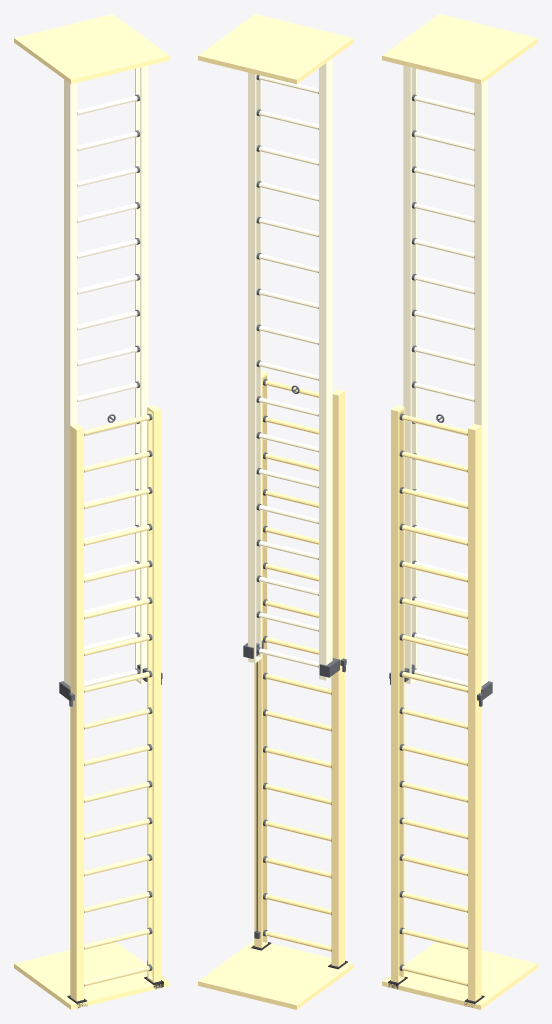
The model's file is ladder_extra_large.glb.
3 views of the same model, side by side, from view 1: azimuth 30°, elevation 25°; view 2: azimuth 150°, elevation 25°; view 3: azimuth 330°, elevation 25° (orthographic).
Visible parts, largest first — view 1: LadderExtraLarge_Top-convcol, LadderExtraLarge_BaseR_Front, LadderExtraLarge_Foot-convcol, LadderExtraLarge_FlyR_Front, LadderExtraLarge_FlyL_Web-convcol, LadderExtraLarge_BaseL_Front, LadderExtraLarge_BaseL_Web-convcol, LadderExtraLarge_FlyL_Front, LadderExtraLarge_FlyR_Back, LadderExtraLarge_BaseR_Back, LadderExtraLarge_BaseL_Back, LadderExtraLarge_FlyR_Web-convcol (+17 smaller); view 2: LadderExtraLarge_Top-convcol, LadderExtraLarge_Foot-convcol, LadderExtraLarge_FlyL_Back, LadderExtraLarge_FlyR_Back, LadderExtraLarge_BaseL_Back, LadderExtraLarge_FlyL_Web-convcol, LadderExtraLarge_BaseL_Web-convcol, LadderExtraLarge_FlyR_Front, LadderExtraLarge_BaseR_Back, LadderExtraLarge_BaseR_Front, LadderExtraLarge_FlyL_Front, LadderExtraLarge_FlyR_Web-convcol (+11 smaller); view 3: LadderExtraLarge_Top-convcol, LadderExtraLarge_BaseR_Front, LadderExtraLarge_BaseL_Front, LadderExtraLarge_Foot-convcol, LadderExtraLarge_FlyL_Front, LadderExtraLarge_FlyR_Web-convcol, LadderExtraLarge_FlyR_Front, LadderExtraLarge_FlyL_Back, LadderExtraLarge_BaseR_Web-convcol, LadderExtraLarge_BaseL_Back, LadderExtraLarge_BaseR_Back, LadderExtraLarge_FlyL_Web-convcol (+17 smaller).
Part boxes in pixels (x1,y1,x2,y2): LadderExtraLarge_Top-convcol: (14,14,169,84); LadderExtraLarge_BaseR_Front: (152,410,160,982); LadderExtraLarge_Foot-convcol: (14,942,169,1009); LadderExtraLarge_FlyR_Front: (140,65,148,683); LadderExtraLarge_FlyL_Web-convcol: (64,80,72,700); LadderExtraLarge_BaseL_Front: (75,429,83,1000); LadderExtraLarge_BaseL_Web-convcol: (70,428,78,1001); LadderExtraLarge_FlyL_Front: (69,83,77,565); LadderExtraLarge_FlyR_Back: (135,67,140,668); LadderExtraLarge_BaseR_Back: (147,407,152,978); LadderExtraLarge_BaseL_Back: (70,426,71,997); LadderExtraLarge_FlyR_Web-convcol: (146,65,148,483); LadderExtraLarge_Top-convcol: (198,14,353,84); LadderExtraLarge_Foot-convcol: (198,940,353,1009); LadderExtraLarge_FlyL_Back: (319,62,327,680); LadderExtraLarge_FlyR_Back: (248,72,256,663); LadderExtraLarge_BaseL_Back: (331,394,339,966); LadderExtraLarge_FlyL_Web-convcol: (324,59,332,680); LadderExtraLarge_BaseL_Web-convcol: (336,393,344,966); LadderExtraLarge_FlyR_Front: (256,74,261,657); LadderExtraLarge_BaseR_Back: (254,377,262,948); LadderExtraLarge_BaseR_Front: (262,374,267,942); LadderExtraLarge_FlyL_Front: (331,58,332,676); LadderExtraLarge_FlyR_Web-convcol: (248,73,249,661); LadderExtraLarge_Top-convcol: (382,14,537,84); LadderExtraLarge_BaseR_Front: (468,428,476,1001); LadderExtraLarge_BaseL_Front: (391,410,399,982); LadderExtraLarge_Foot-convcol: (382,942,537,1009); LadderExtraLarge_FlyL_Front: (403,66,411,683); LadderExtraLarge_FlyR_Web-convcol: (479,80,487,700); LadderExtraLarge_FlyR_Front: (474,83,482,685); LadderExtraLarge_FlyL_Back: (411,67,416,668); LadderExtraLarge_BaseR_Web-convcol: (473,429,481,998); LadderExtraLarge_BaseL_Back: (399,407,404,977); LadderExtraLarge_BaseR_Back: (480,426,481,997); LadderExtraLarge_FlyL_Web-convcol: (403,65,405,471).
Bounding box in the file's own units: 1.35 × 12.15 × 1.35.
